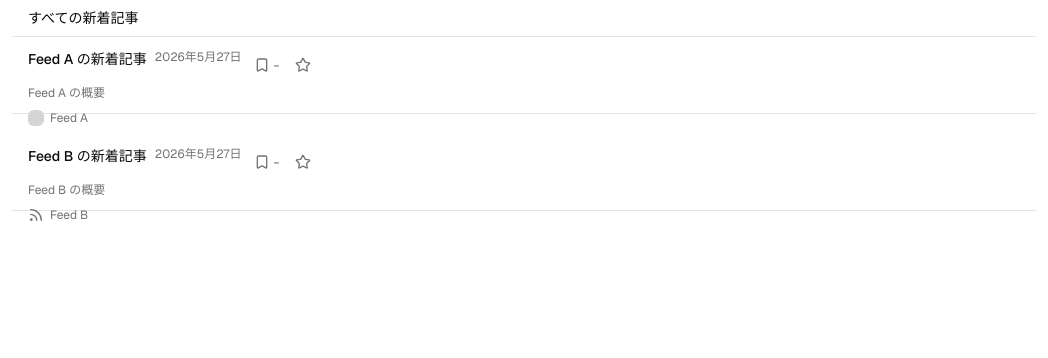
Test case: CrossFeedItemList コンポーネント › 記事行をクリックすると展開され、再クリックで折りたたまれること（既存 useMarkAsRead / useToggleStar 流用の前提配線確認）
Expected: the link "Feed A の新着記事" is shown, [28,49,147,69]
# 記事行クリック → 展開
Click the button with test id "item-row-item-1". click: click(198, 57)
box: [12,37,1036,114]
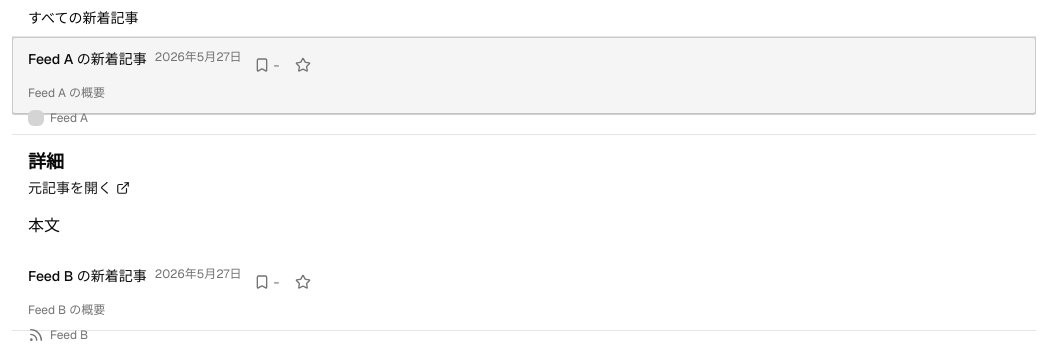
Now the text "本文" is shown, box [28,214,60,236]
